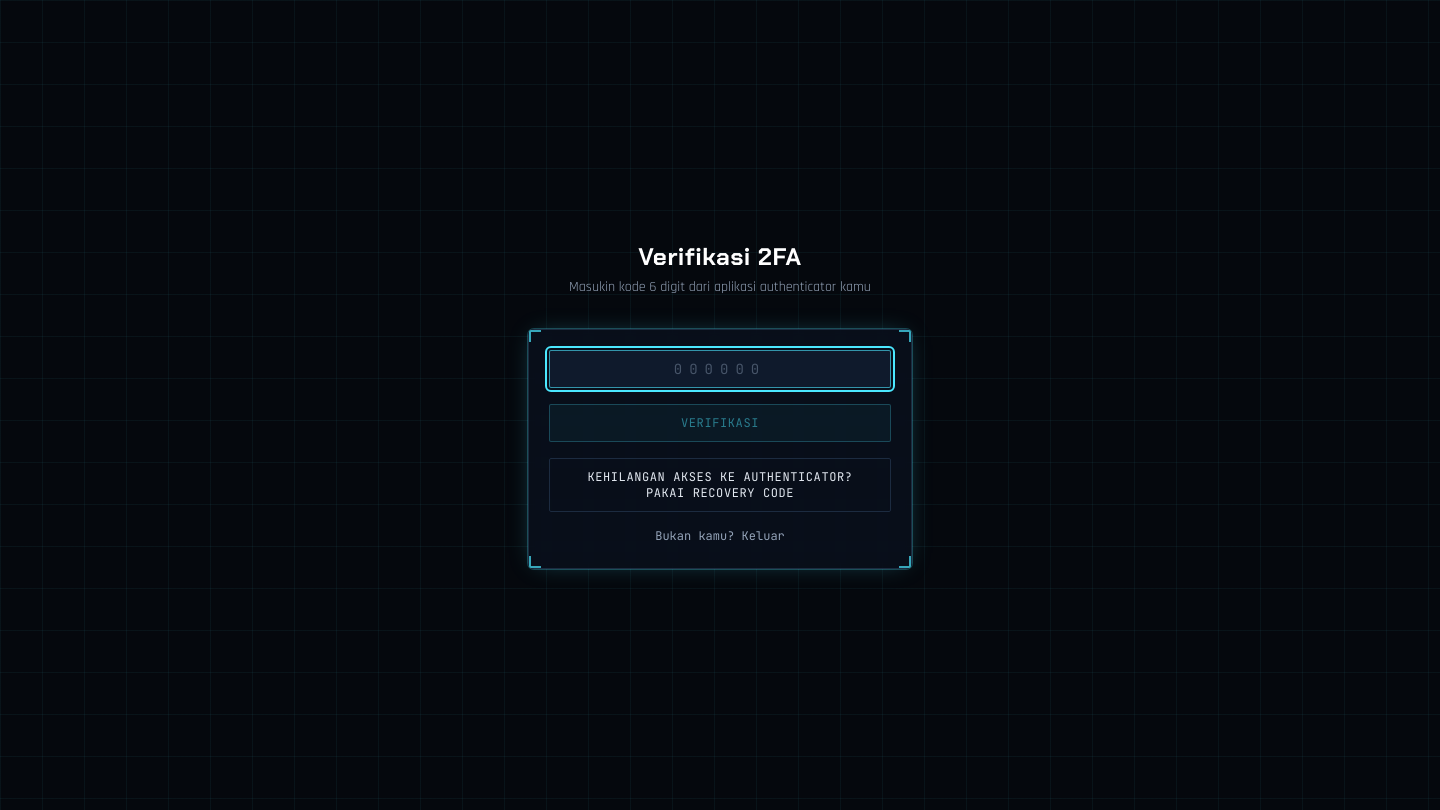
Test: MfaChallengePage › keeps Verifikasi disabled until a 6-digit code is entered
Expected: the button "Verifikasi" is disabled, [549,404,891,442]
Type "123" into the field with placeholder "000000".
click(720, 369); type("123")  # box [549,350,891,388]
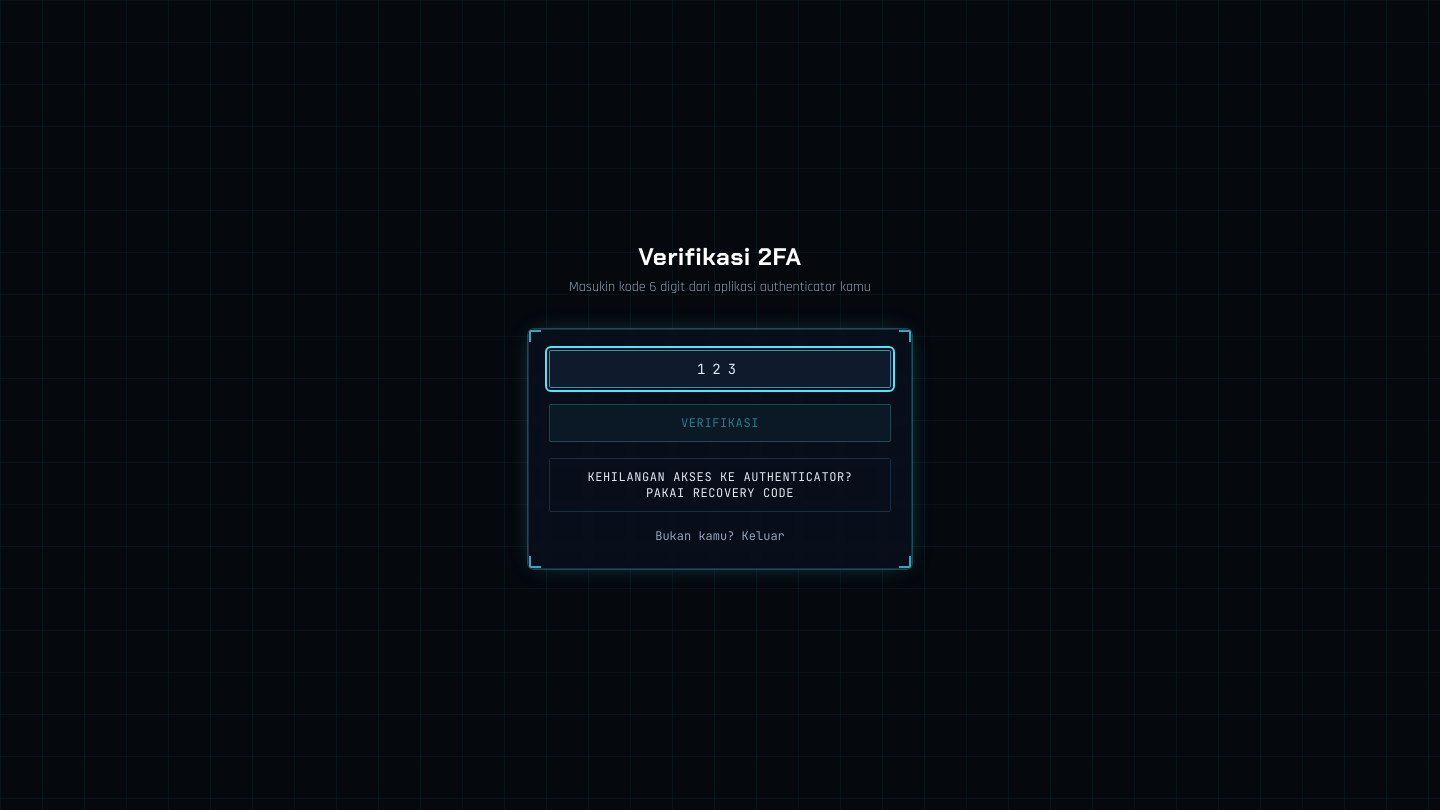
Expected: the button "Verifikasi" is disabled, [549,404,891,442]
Replace the text in the field with placeholder "000000" with "123456" at (720, 369), box [549,350,891,388]
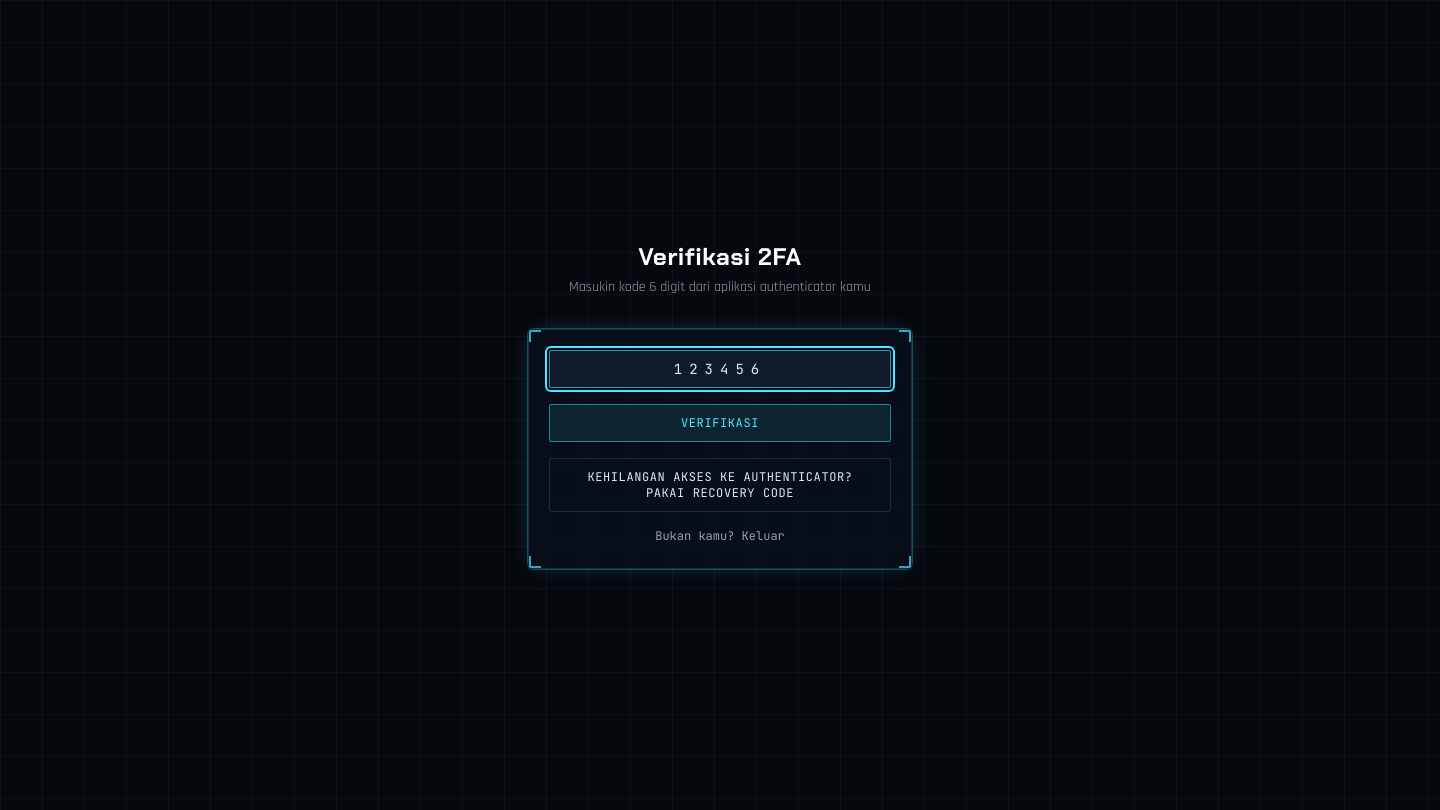
Result: the button "Verifikasi" is enabled at [549,404,891,442]
